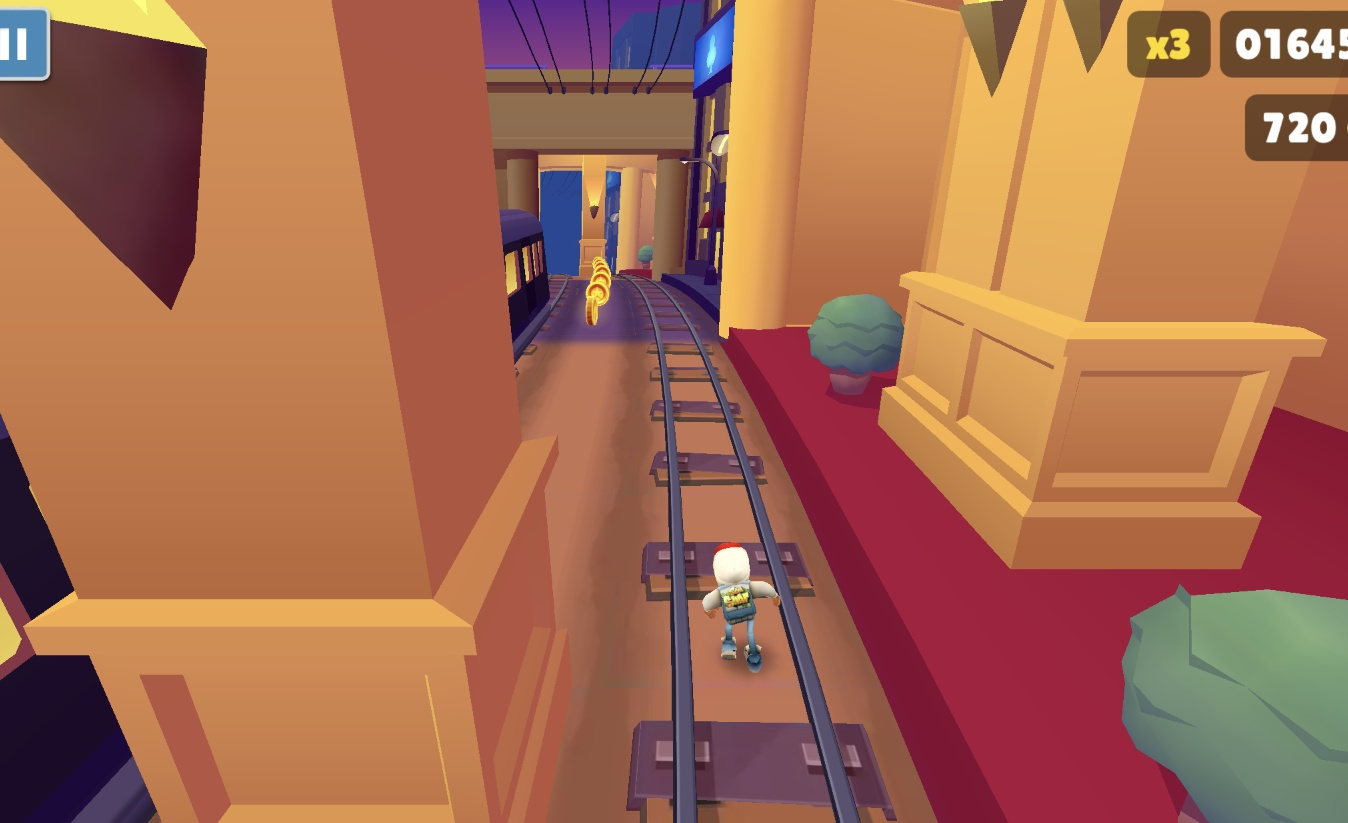pillar: (0, 0, 576, 823), (576, 157, 610, 280)
train: (499, 207, 546, 337)
